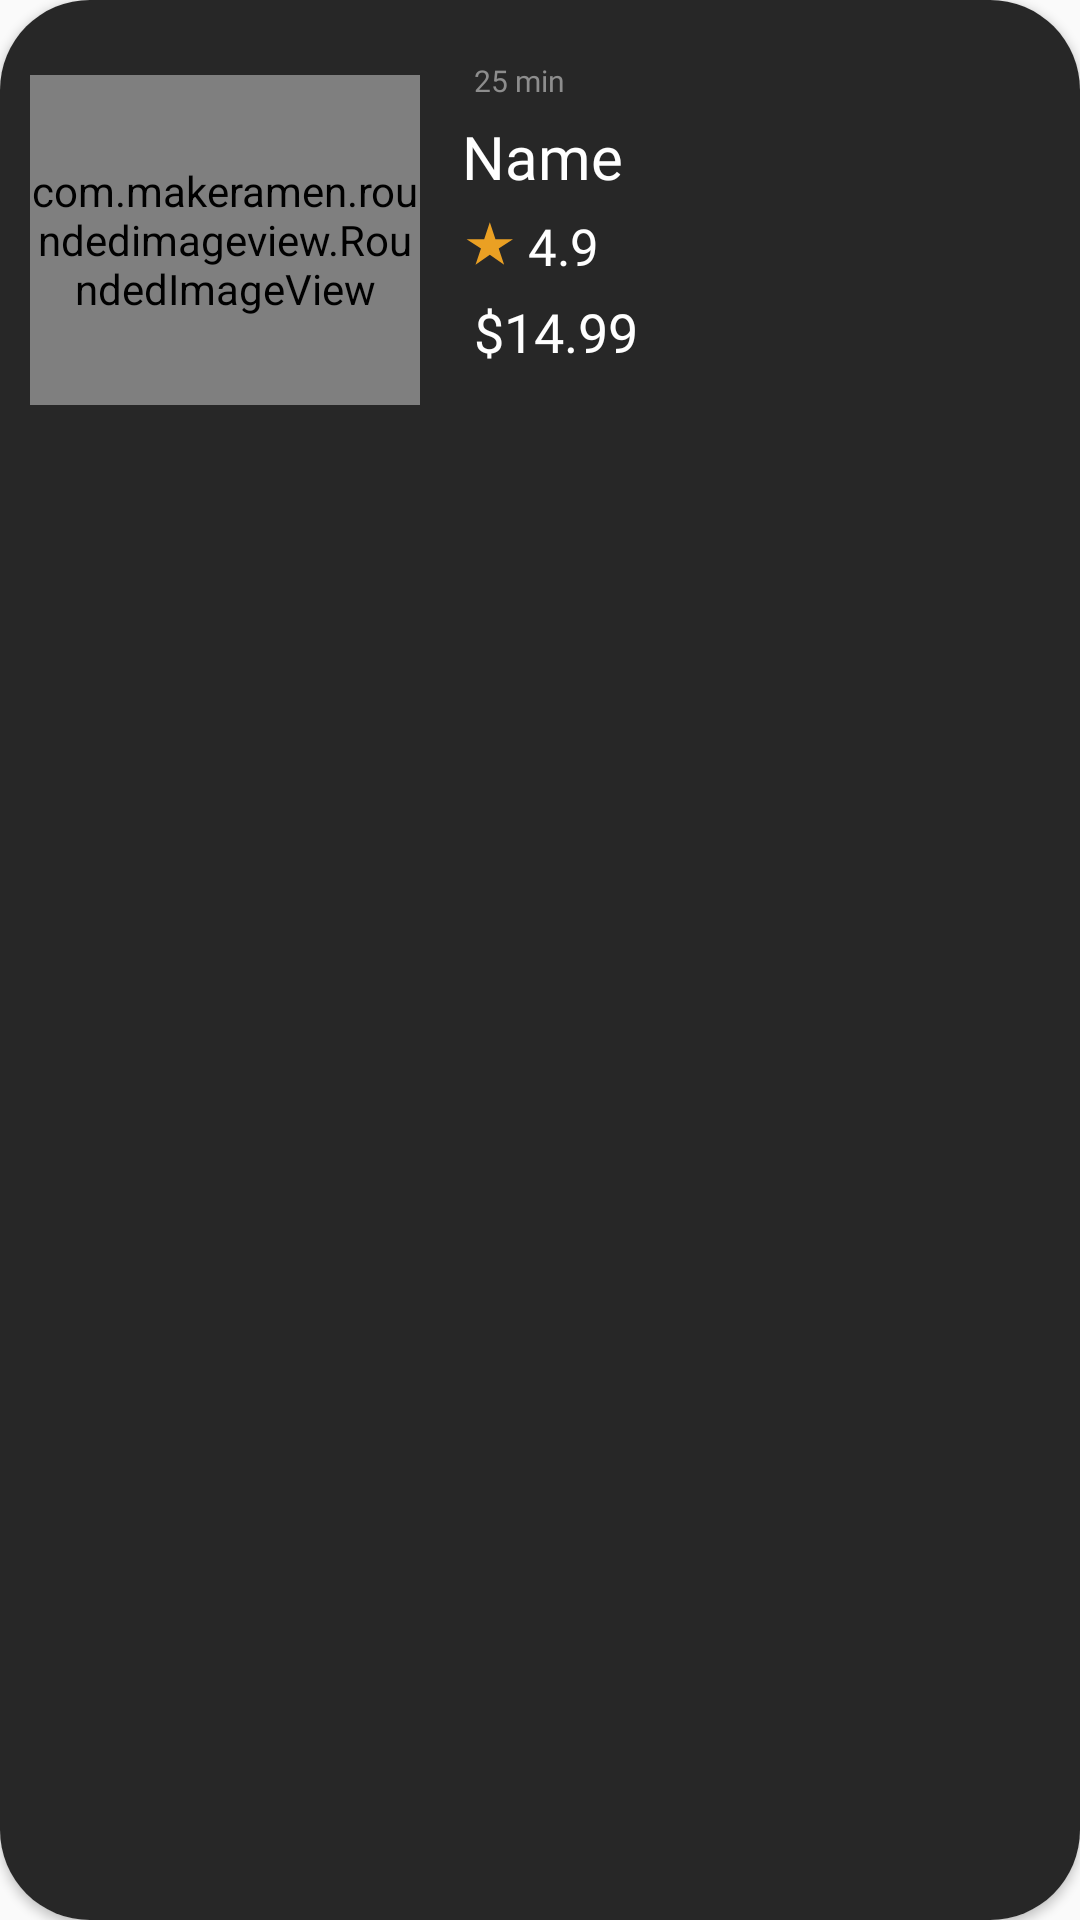

Point at icon controls on the screen. Image size 1080×1920, points as point (x, y).
star rate: point (490, 243)
